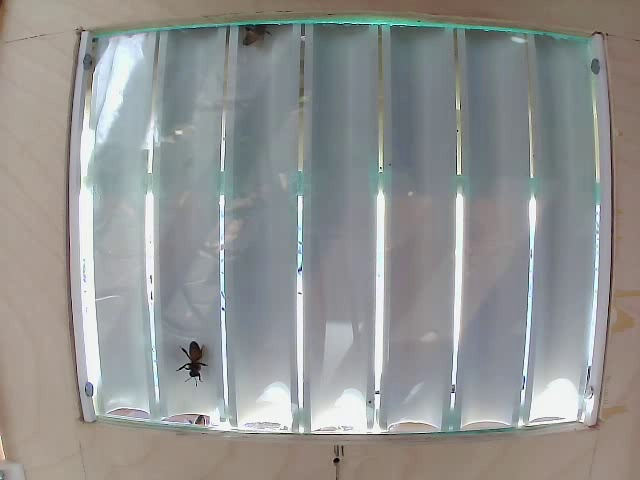bee: (174, 346, 208, 376)
